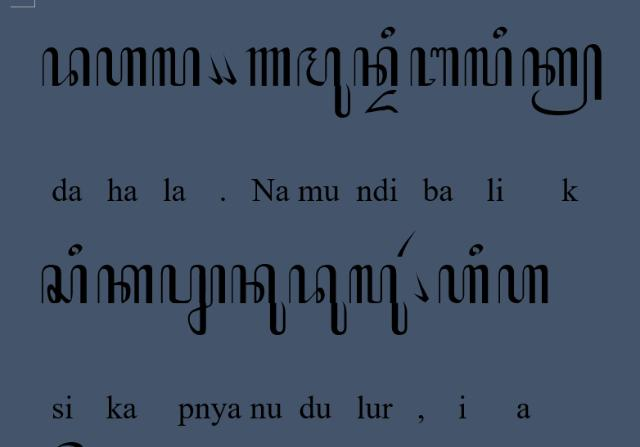-k: (521, 42, 605, 118)
N: (244, 45, 292, 88)
_d: (364, 89, 401, 115)
_r1: (396, 228, 416, 258)
b: (409, 45, 461, 88)
d: (39, 46, 91, 86)
du: (288, 263, 348, 337)
h: (95, 45, 149, 89), (498, 263, 550, 307), (438, 264, 490, 306)
i: (380, 24, 396, 40), (492, 24, 508, 40), (66, 243, 84, 257), (466, 243, 484, 257)
k: (96, 263, 154, 306)
kom: (206, 52, 224, 88), (221, 51, 237, 87), (414, 272, 430, 304)
l: (462, 44, 514, 88), (150, 46, 200, 90)
lu: (346, 264, 408, 338)
mu: (296, 45, 352, 119)
n: (352, 46, 400, 88)
nu: (230, 262, 288, 338)
pny: (159, 262, 227, 336)
s: (40, 264, 89, 306)
